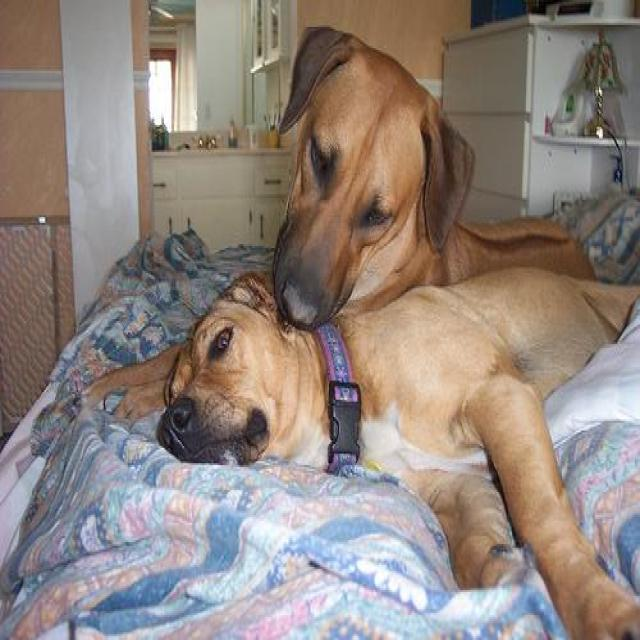rhodesian_ridgeback: (155, 271, 639, 638), (270, 25, 599, 348)
